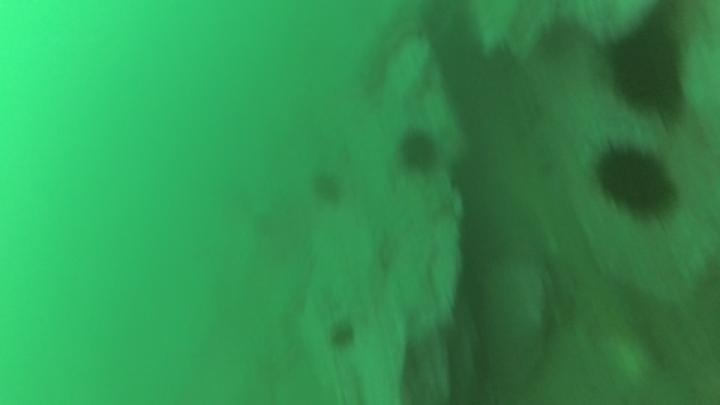echinus: (603, 23, 688, 118), (590, 139, 680, 221), (395, 126, 441, 175), (308, 169, 346, 209), (325, 317, 360, 353)
